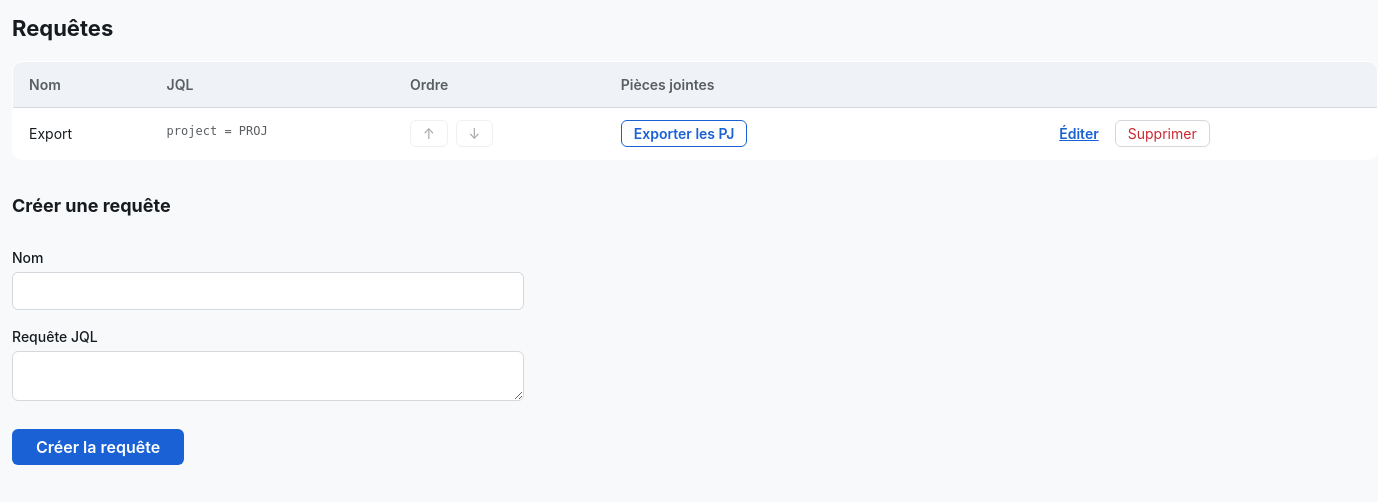
Test case: AdminQueries › starts a background export of the query attachments
The width and height of the screenshot is (1378, 502).
Check: the text "Export" is shown, box [12,108,151,160]
Click the button with aria-label "Exporter les pièces jointes de Export".
click(684, 134)  # box [621,120,747,147]
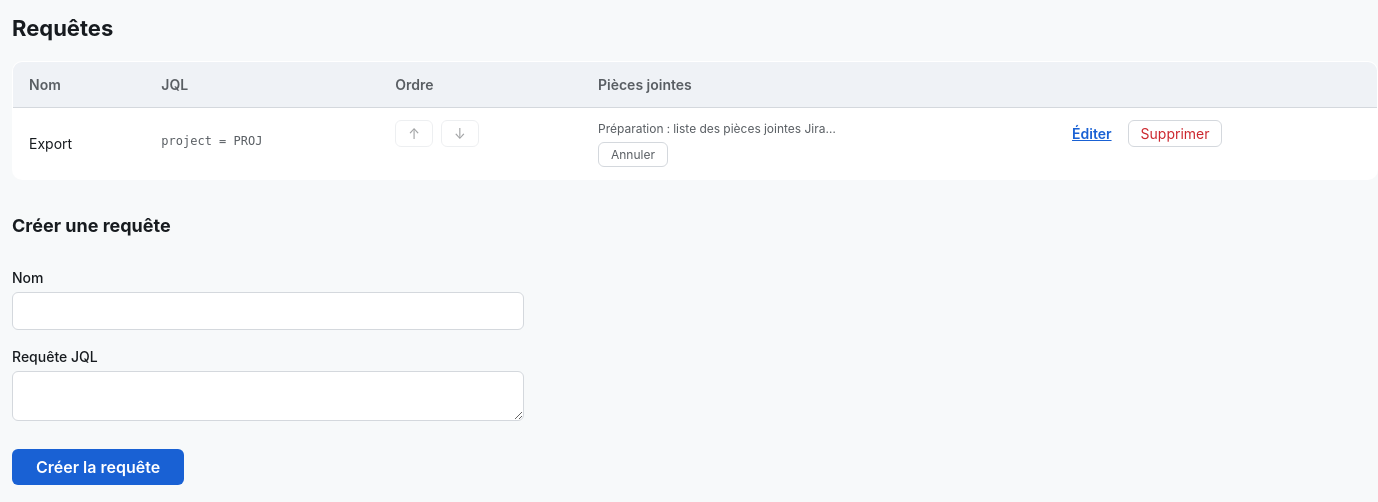
Check: the text "Préparation : liste des pièces jointes Jira…" is shown, box [598,120,836,138]
